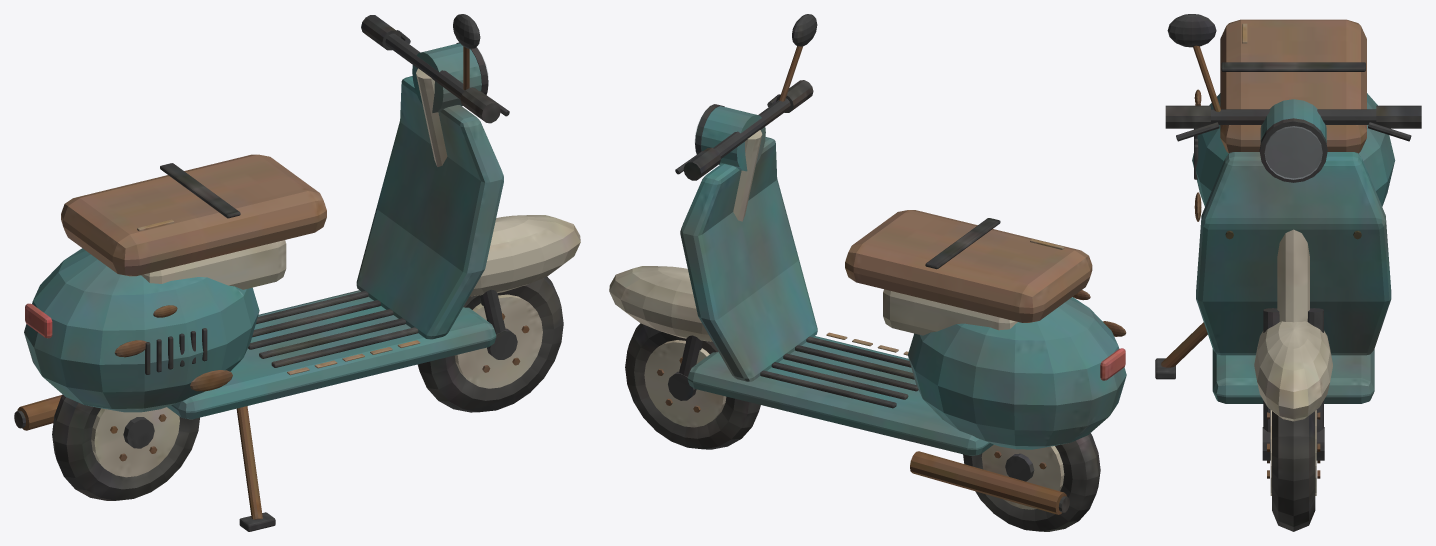
File: W21_old_scooter.glb
3 views of the same model, side by side, from view 1: azimuth 30°, elevation 25°; view 2: azimuth 150°, elevation 25°; view 3: azimuth 270°, elevation 25° (orthographic). The views are drawn at different scales.
Visible parts, largest first — view 1: Aged tire; view 2: Aged tire; view 3: Aged tire.
Part boxes in pixels (<box>): Aged tire: <box>14,14,580,531</box>; Aged tire: <box>609,14,1126,531</box>; Aged tire: <box>1155,14,1421,531</box>.
Bounding box in the file's own units: 1.8 × 1.41 × 0.7175.
Materials: 10 (9 with a texture image).
